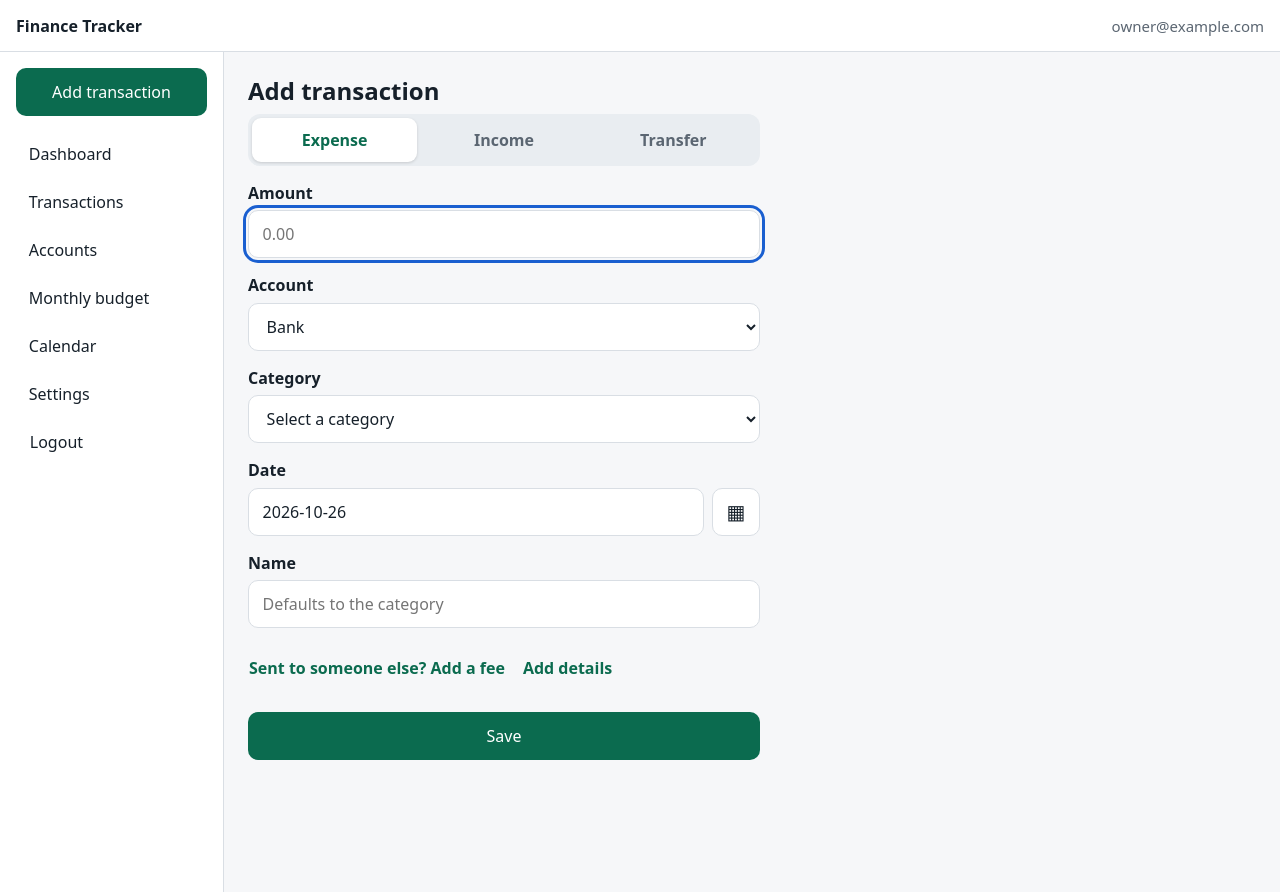
Test: journeys through the real screens › an expense changes the balance and the dashboard only after the server confirms
In the field labelled "Amount": (504, 234) [248,210,760,258], type "150"
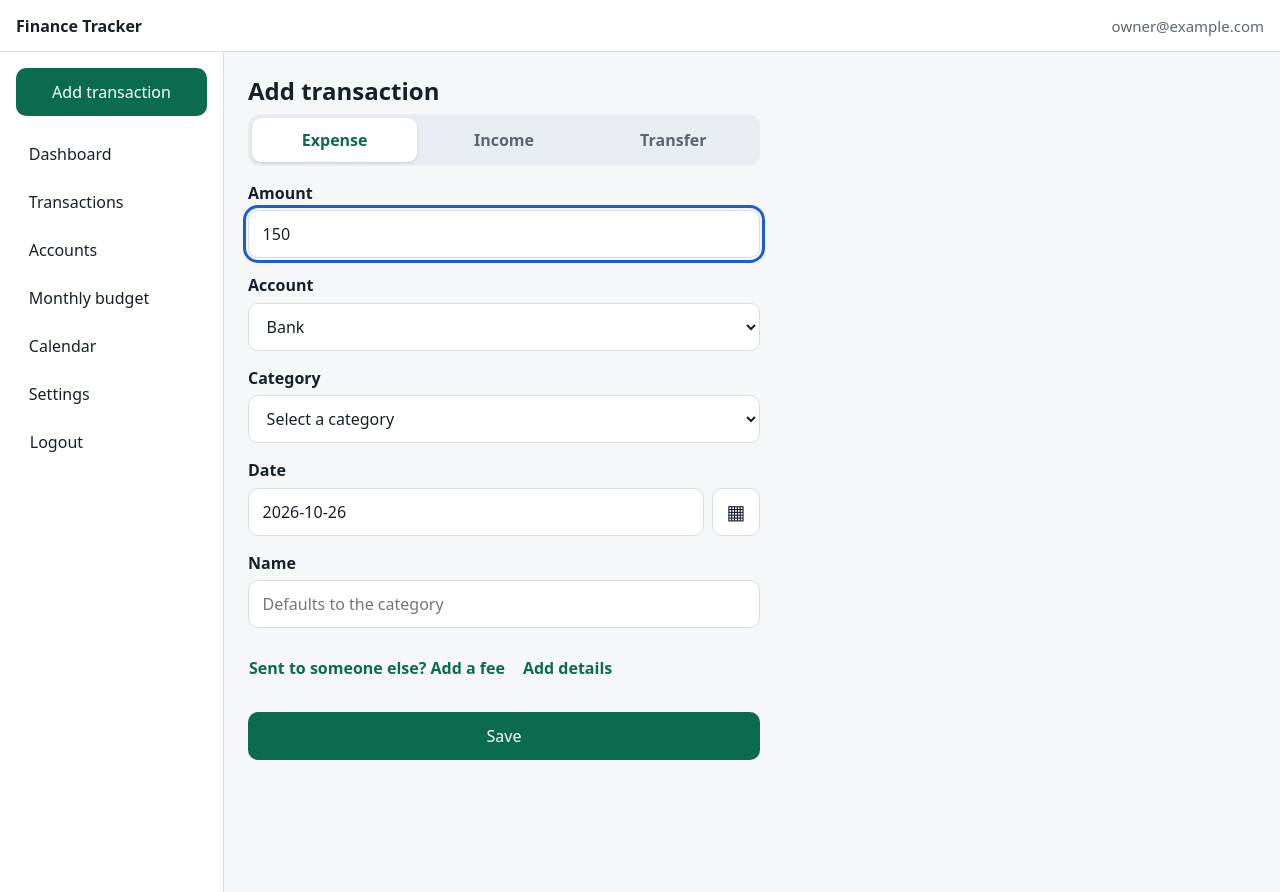
Select "Food" in the dropdown labelled "Category": (504, 419) [248,395,760,443]
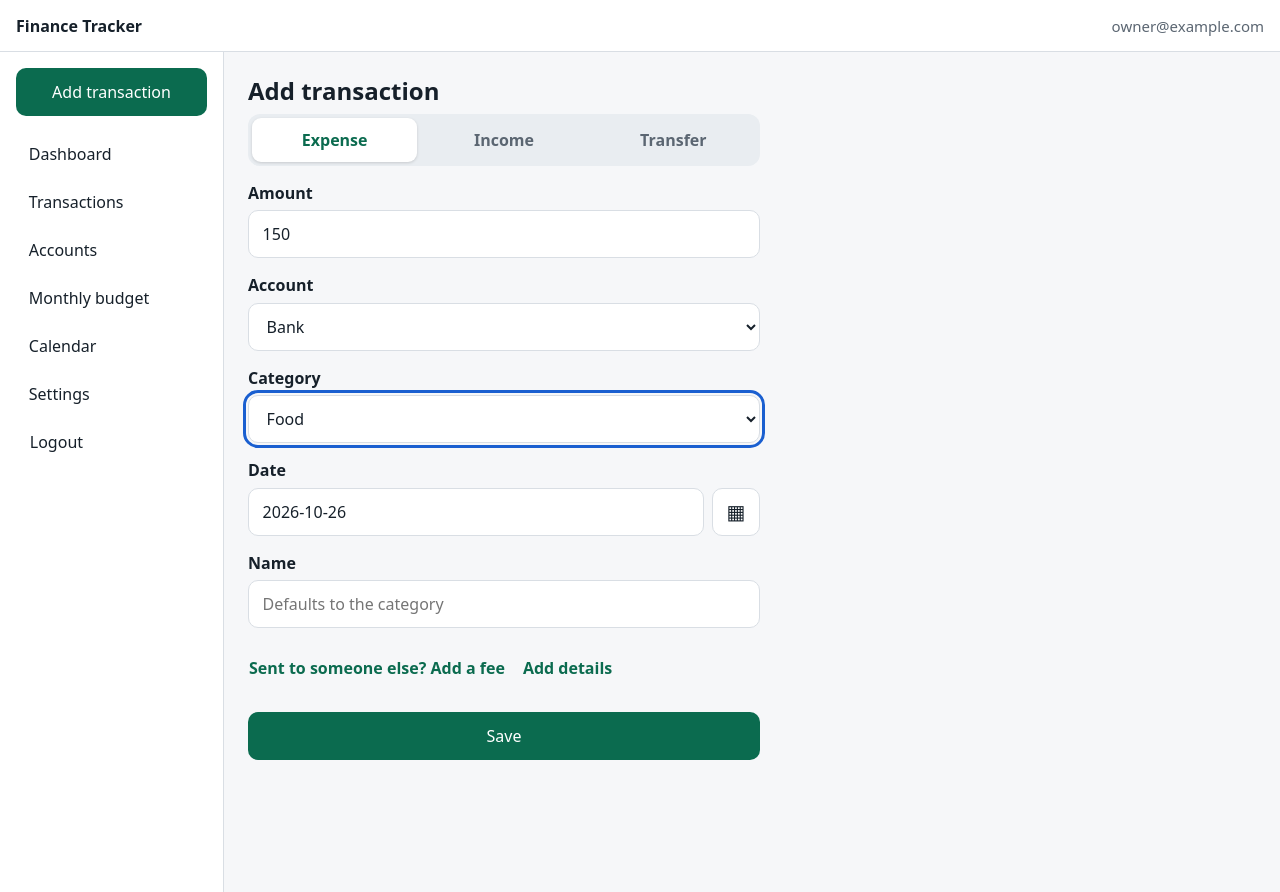
Click the button "Save": (504, 736) [248,712,760,760]
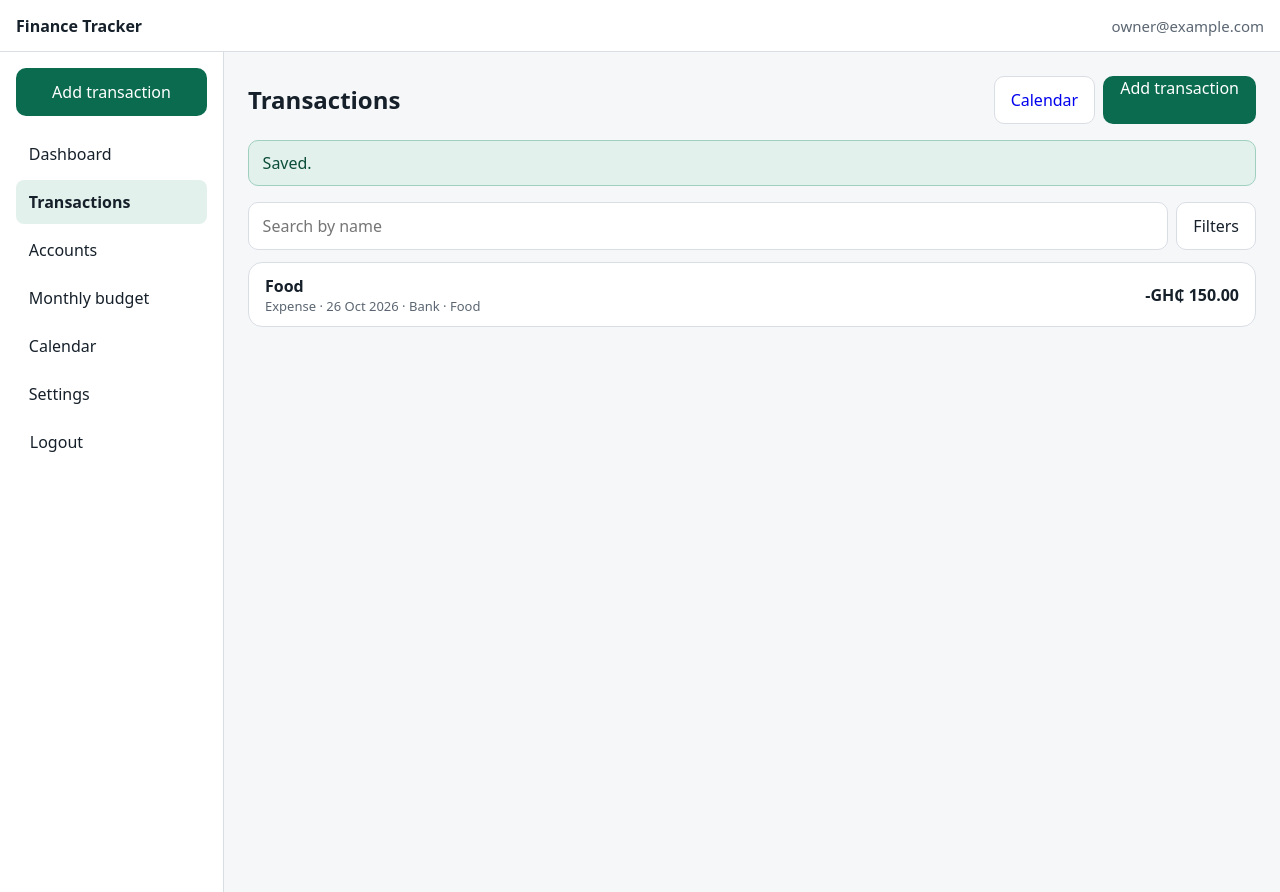
Expected: the heading "Transactions" is shown, [248,85,400,115]
Click the link "Accounts": (63, 250) [29,239,97,261]
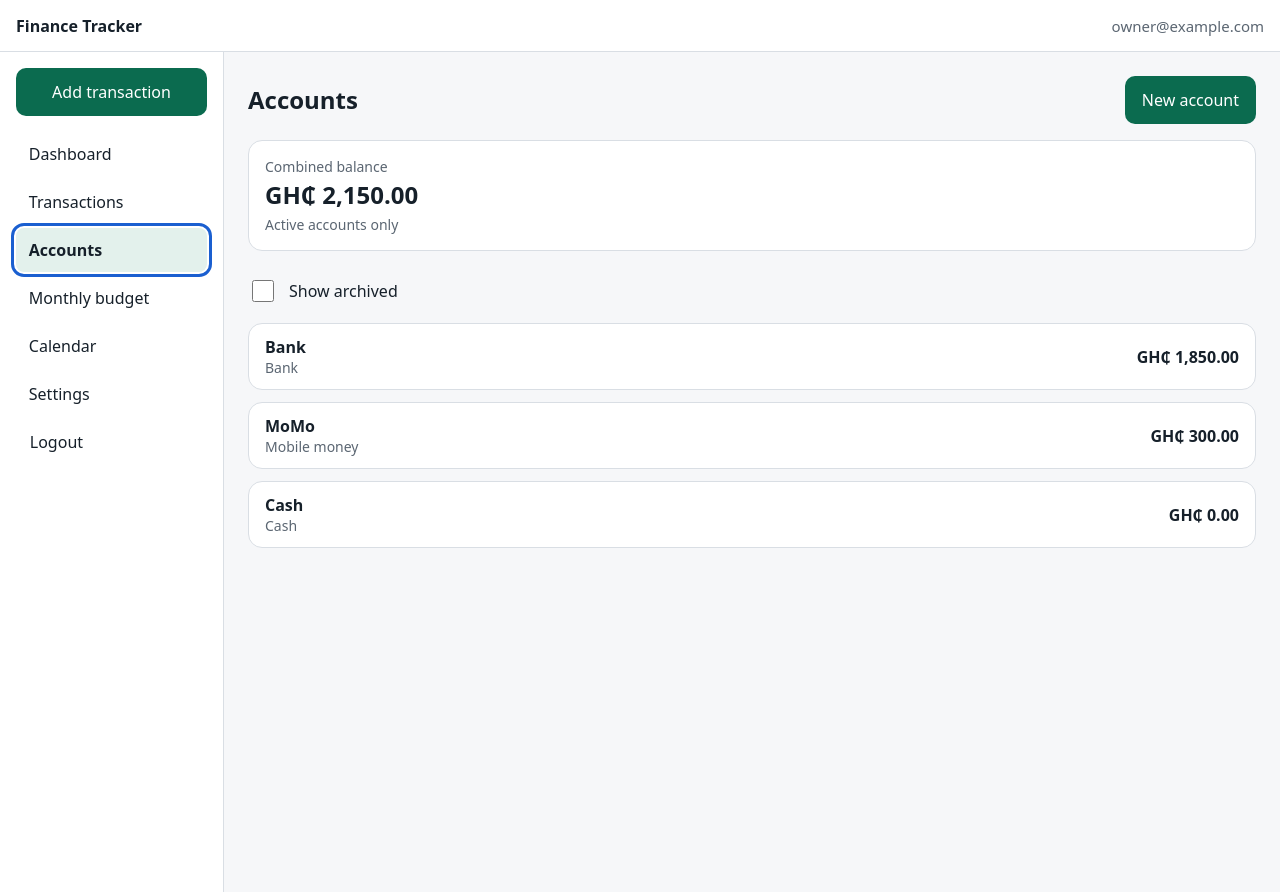
Expected: the text "GH₵ 1,850.00" is shown, [1137,346,1239,368]
Expected: the text "GH₵ 2,150.00" is shown, [265,178,418,211]
Click the link "Dashboard": (70, 154) [29,143,112,165]
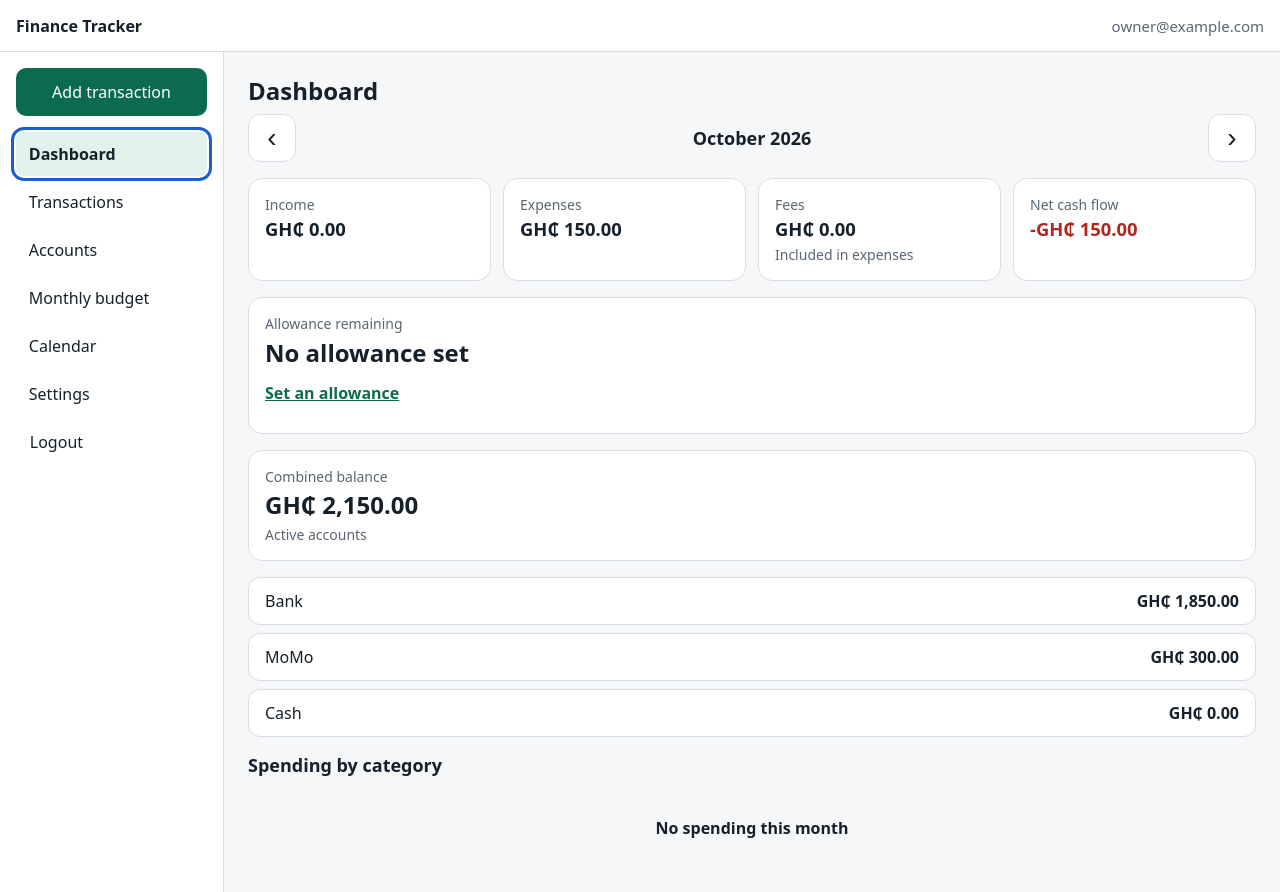
Expected: the text "GH₵ 150.00" is shown, [520,216,622,241]
